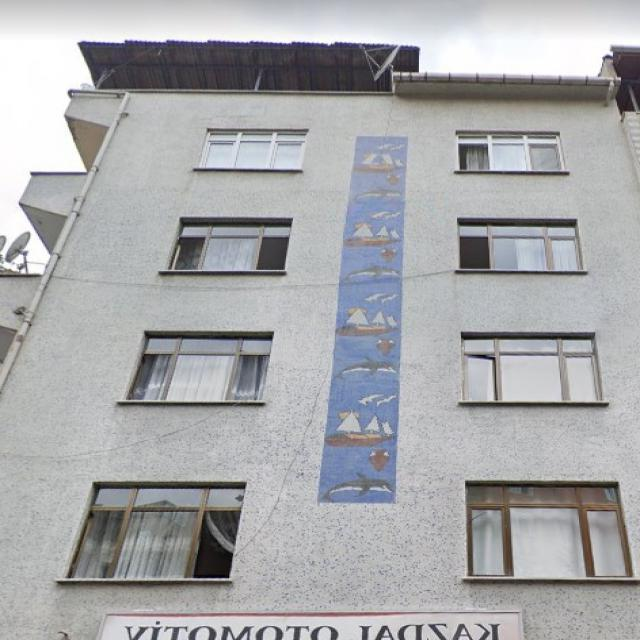Building: (0, 42, 640, 640)
